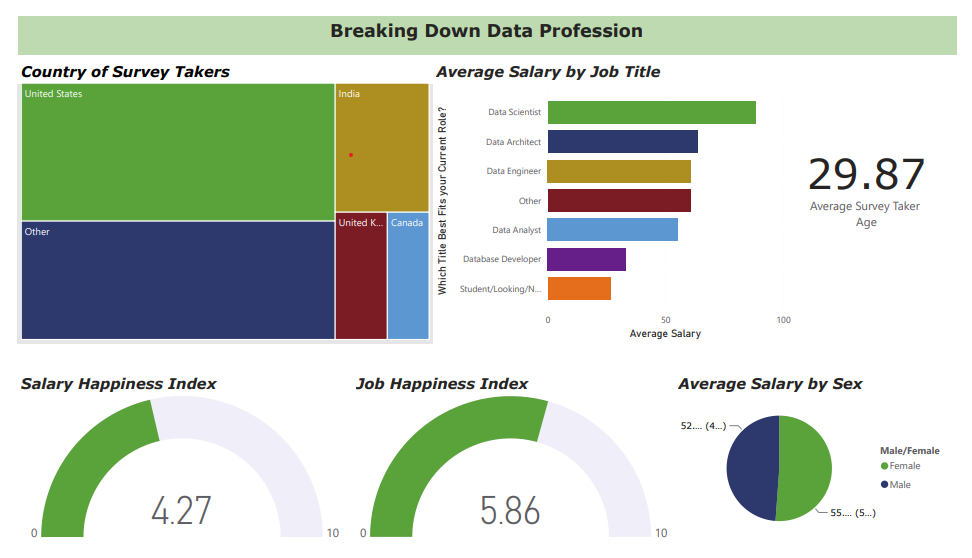

What the dashboard file says about the page in this screenshot:
{"tool":"powerbi","page":{"name":"Page 1","canvas":[1280,720],"ordinal":0},"visuals":[{"type":"textbox","box":[0,0,1280,52.9],"z":0},{"type":"card","fields":{"Values":["Avg(Data Professional Survey.Q10 - Current Age)"]},"box":[1058.6,128.6,197.1,187.1],"z":1000},{"type":"barChart","title":"Average Salary by Job Title","fields":{"Category":["Data Professional Survey.Q1 - Which Title Best Fits your Current Role?.1"],"Y":["Avg(Data Professional Survey.Average Salary)"],"Series":["Data Professional Survey.Q1 - Which Title Best Fits your Current Role?.1"]},"box":[565.7,62.9,492.9,382.9],"z":2000},{"type":"treemap","title":"Country of Survey Takers","fields":{"Group":["Data Professional Survey.Q11 - Which Country do you live in?.1"],"Values":["CountNonNull(Data Professional Survey.Q11 - Which Country do you live in?.1)"]},"box":[0,62.9,565.7,382.9],"z":3000},{"type":"gauge","title":"Job Happiness Index","fields":{"Y":["Avg(Data Professional Survey.Q6 - How Happy are you in your Current Position with the following? (Coworkers))"],"MinValue":["Min(Data Professional Survey.Q6 - How Happy are you in your Current Position with the following? (Coworkers))1"],"MaxValue":["Max(Data Professional Survey.Q6 - How Happy are you in your Current Position with the following? (Coworkers))2"]},"box":[457.1,488.6,438.6,231.4],"z":4000},{"type":"pieChart","title":"Average Salary by Sex","fields":{"Y":["Avg(Data Professional Survey.Average Salary)"],"Category":["Data Professional Survey.Q9 - Male/Female?"]},"box":[895.7,488.6,384.3,231.4],"z":5000},{"type":"gauge","title":"Salary Happiness Index","fields":{"Y":["Avg(Data Professional Survey.Q6 - How Happy are you in your Current Position with the following? (Salary))"],"MinValue":["Min(Data Professional Survey.Q6 - How Happy are you in your Current Position with the following? (Salary))"],"MaxValue":["Max(Data Professional Survey.Q6 - How Happy are you in your Current Position with the following? (Salary))"]},"box":[0,488.6,457.1,231.4],"z":6000}]}

Visuals, with their boxes in screenshot pixels (x1, y1, x2, y2), scaled from the page's 1280x720 canvas onto the 972x558 screenshot:
textbox: BBox(0, 0, 971, 41)
card - Avg(Data Professional Survey.Q10 - Current Age): BBox(804, 100, 954, 245)
"Average Salary by Job Title" barChart: BBox(430, 49, 804, 345)
"Country of Survey Takers" treemap: BBox(0, 49, 430, 345)
"Job Happiness Index" gauge: BBox(347, 379, 680, 557)
"Average Salary by Sex" pieChart: BBox(680, 379, 971, 557)
"Salary Happiness Index" gauge: BBox(0, 379, 347, 557)
